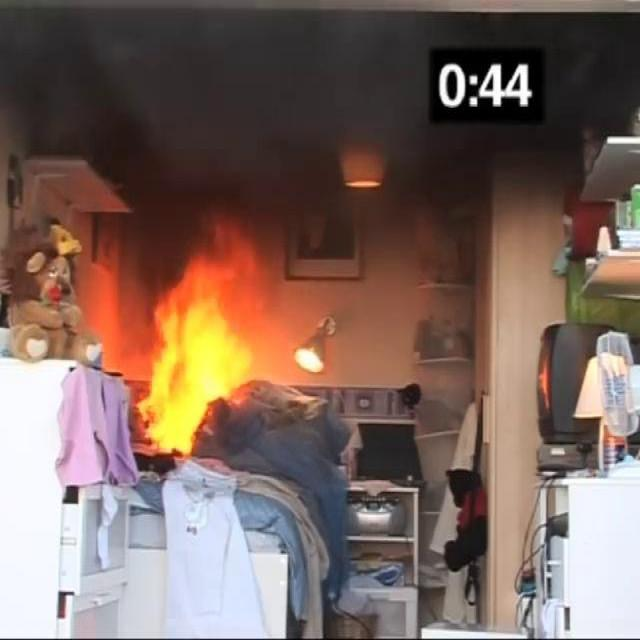fire: (140, 205, 254, 462)
